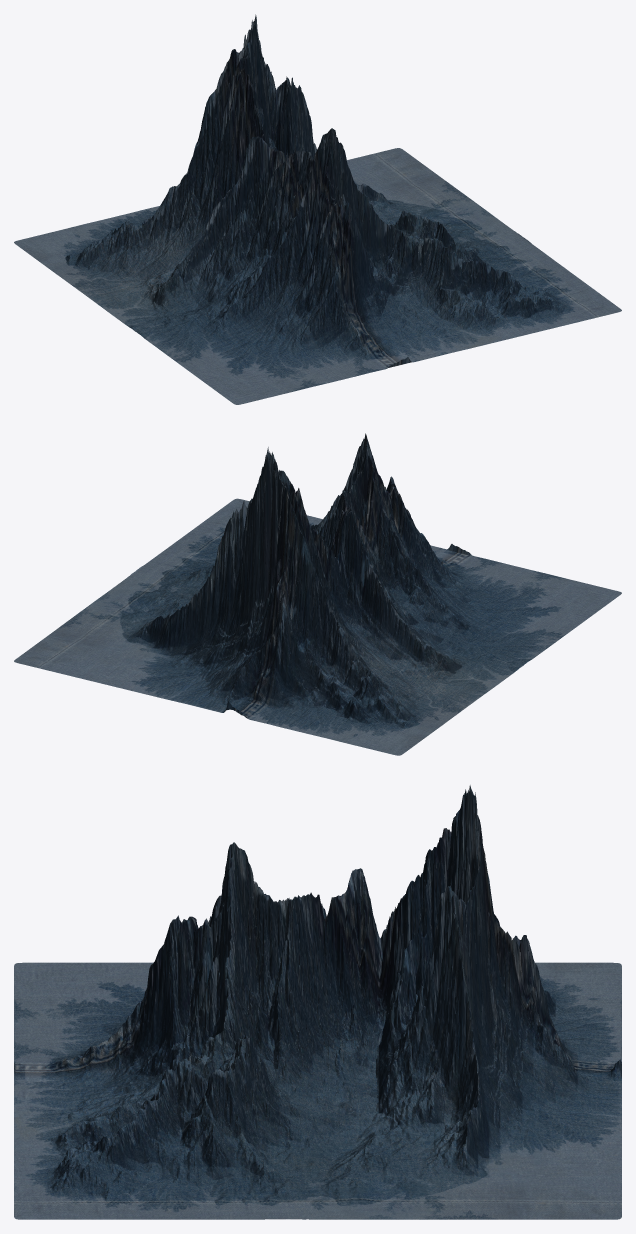
The model's file is mountain_4.glb.
3 renders of one model, top to bottom at view 1: azimuth 30°, elevation 25°; view 2: azimuth 150°, elevation 25°; view 3: azimuth 270°, elevation 25°, orthographic. The views are drawn at different scales.
Parts seen in each view (by area): view 1: Plane; view 2: Plane; view 3: Plane.
Part boxes in pixels (x1,y1,x2,y2): Plane: (14,14,621,404); Plane: (14,433,621,755); Plane: (14,785,621,1219).
Size of the model in its own units: 11.35 by 6.24 by 11.35.
Materials: 1 (1 with a texture image).
